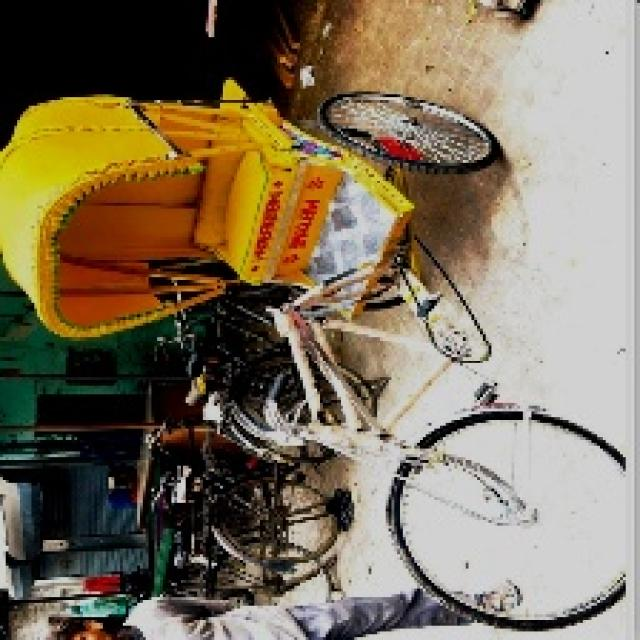rickshaw: (11, 81, 604, 624)
